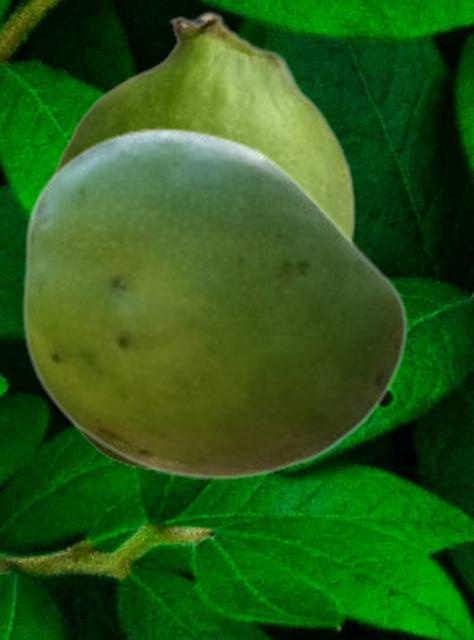green_mango: (48, 10, 355, 468), (21, 126, 407, 480)
